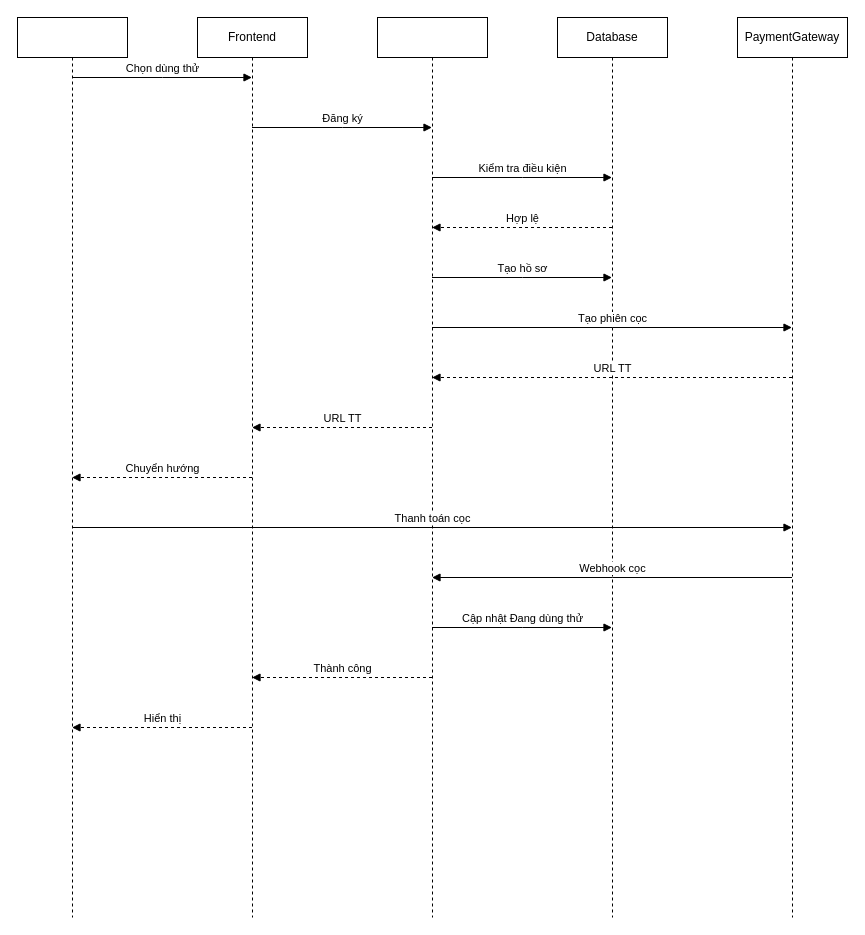
This 865x935 diagram has some shape labels left out. Each missing label, with the box of its shape:
Backend: (376, 16, 488, 918)
Khách Hàng: (16, 16, 128, 918)
